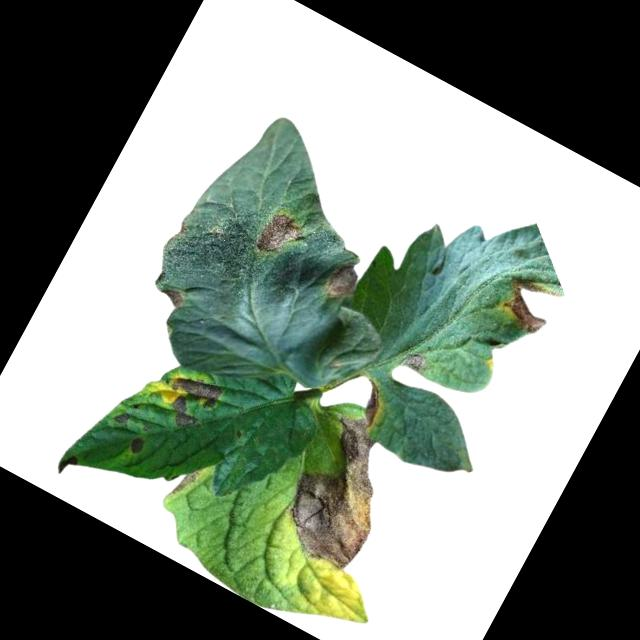Early_blight: (276, 409, 417, 576), (154, 364, 226, 437), (492, 267, 566, 337), (250, 206, 307, 265), (318, 255, 365, 305), (351, 380, 391, 428), (169, 462, 200, 502), (157, 282, 188, 309), (53, 449, 80, 479), (402, 349, 427, 372), (125, 432, 148, 456), (112, 406, 130, 424)
